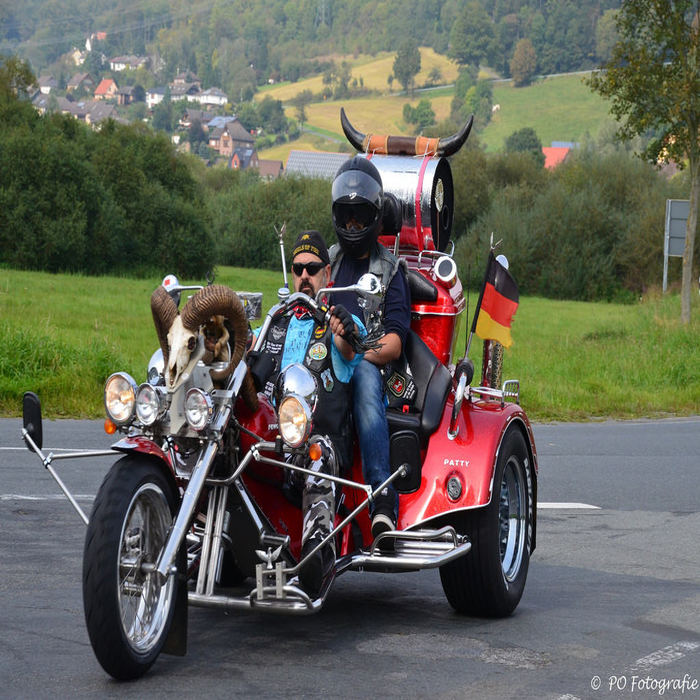h: (330, 152, 382, 261)
